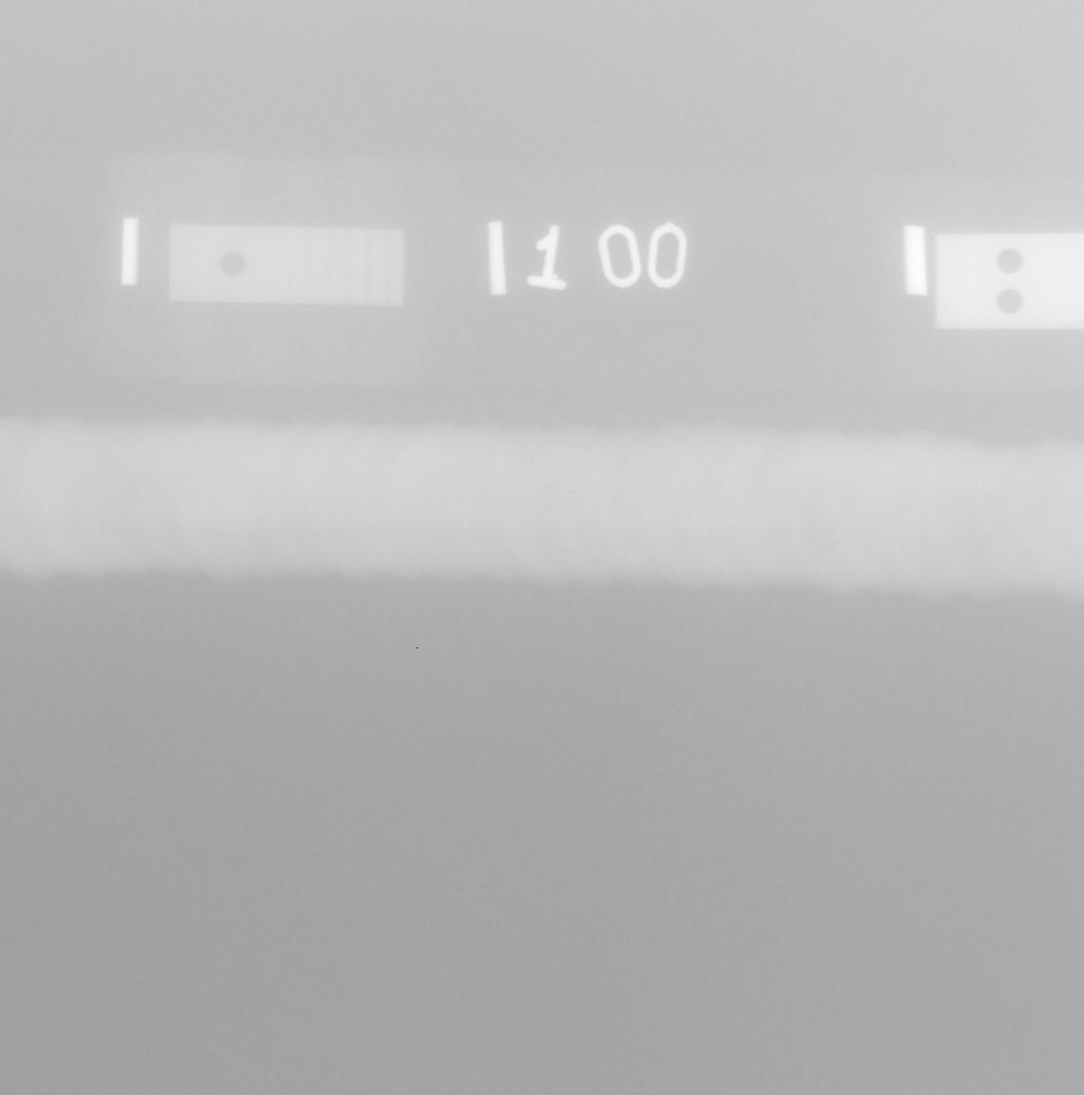Reference Standard 1: (168, 225, 405, 306)
